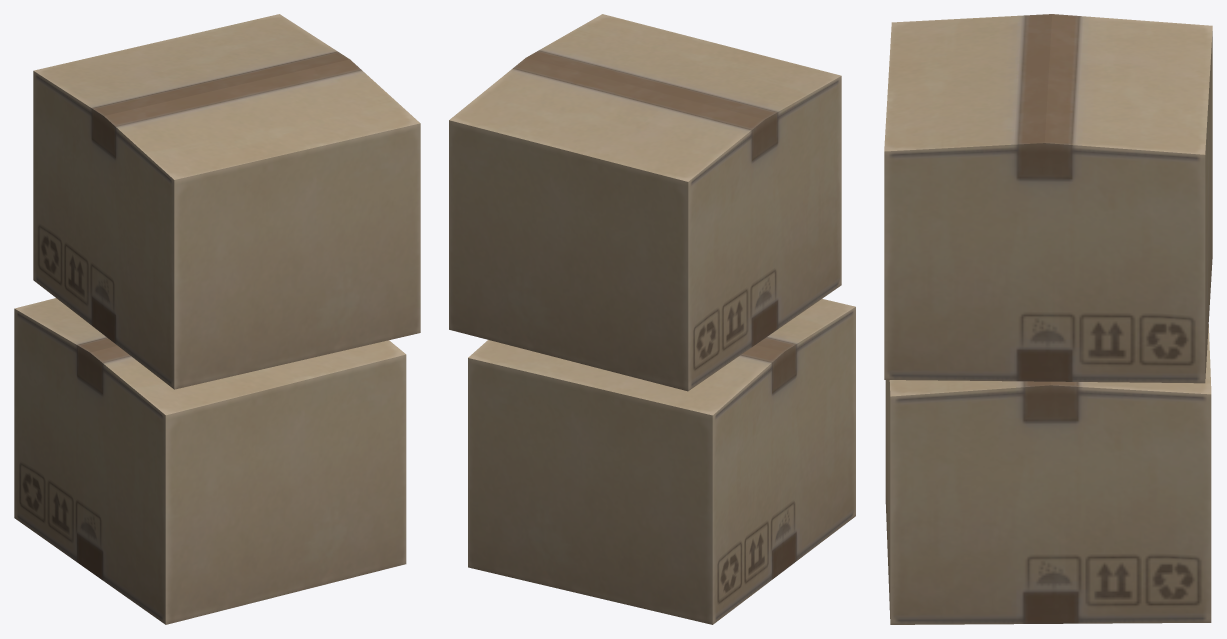
File: WarehouseManager_10.obj
3 views of the same model, side by side, from view 1: azimuth 30°, elevation 25°; view 2: azimuth 150°, elevation 25°; view 3: azimuth 270°, elevation 25° (orthographic). The views are drawn at different scales.
Bounding box in the file's own units: 0.734 × 1.19 × 0.7246.
2 materials, 2 textured.
